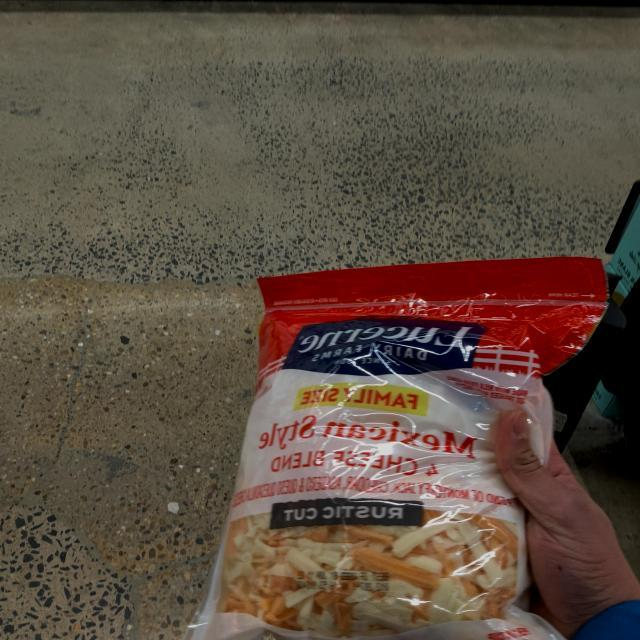cheese: (174, 249, 609, 640)
